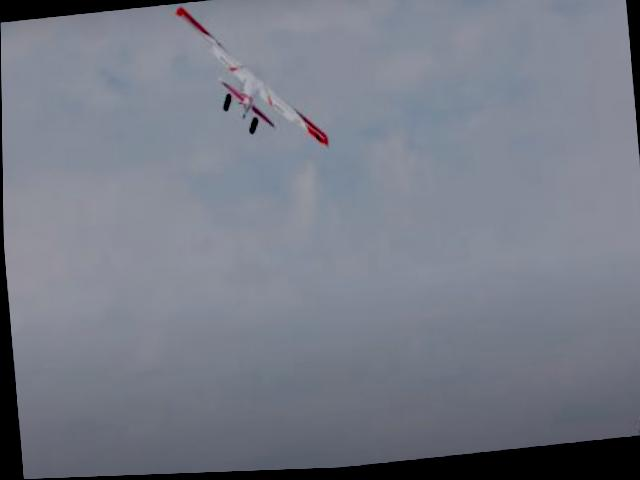uav: (167, 0, 331, 168)
